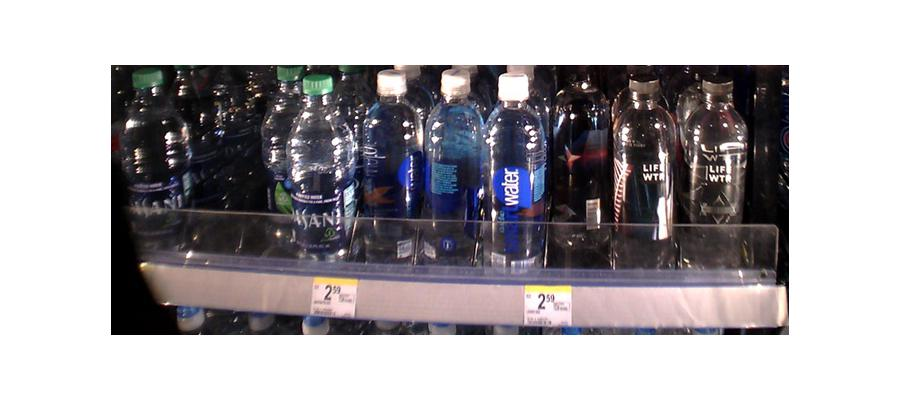bottle: (117, 66, 186, 275), (612, 69, 678, 270), (283, 71, 351, 262), (682, 70, 746, 272), (483, 72, 548, 269), (356, 67, 418, 263), (422, 72, 485, 264), (194, 70, 258, 255), (552, 69, 611, 262)
